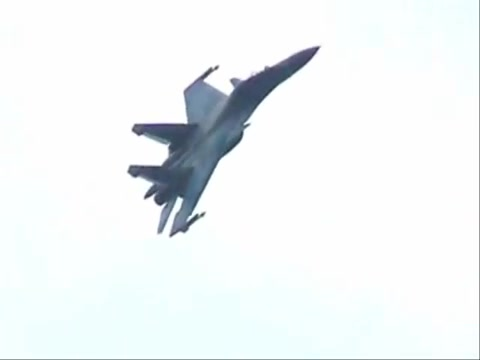aeroplane: (127, 44, 325, 238)
